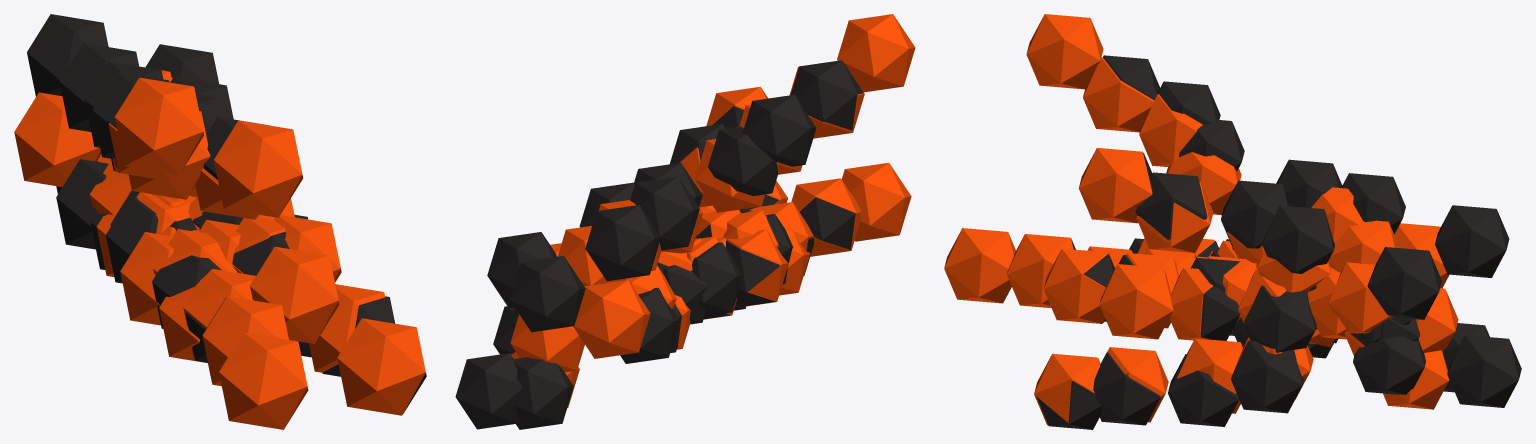
3 renders of one model, left to right at view 1: azimuth 30°, elevation 25°; view 2: azimuth 150°, elevation 25°; view 3: azimuth 270°, elevation 25°, orthographic. The views are drawn at different scales.
Visible parts, largest first — view 1: FireTrail, Smoke; view 2: Smoke, FireTrail; view 3: FireTrail, Smoke.
Part boxes in pixels (<box>): FireTrail: <box>14,70,425,429</box>; Smoke: <box>27,14,426,413</box>; Smoke: <box>455,60,863,429</box>; FireTrail: <box>510,14,915,407</box>; FireTrail: <box>944,14,1458,425</box>; Smoke: <box>1036,55,1521,429</box>.
Bounding box in the file's own units: 21.02 × 23.96 × 39.6.
